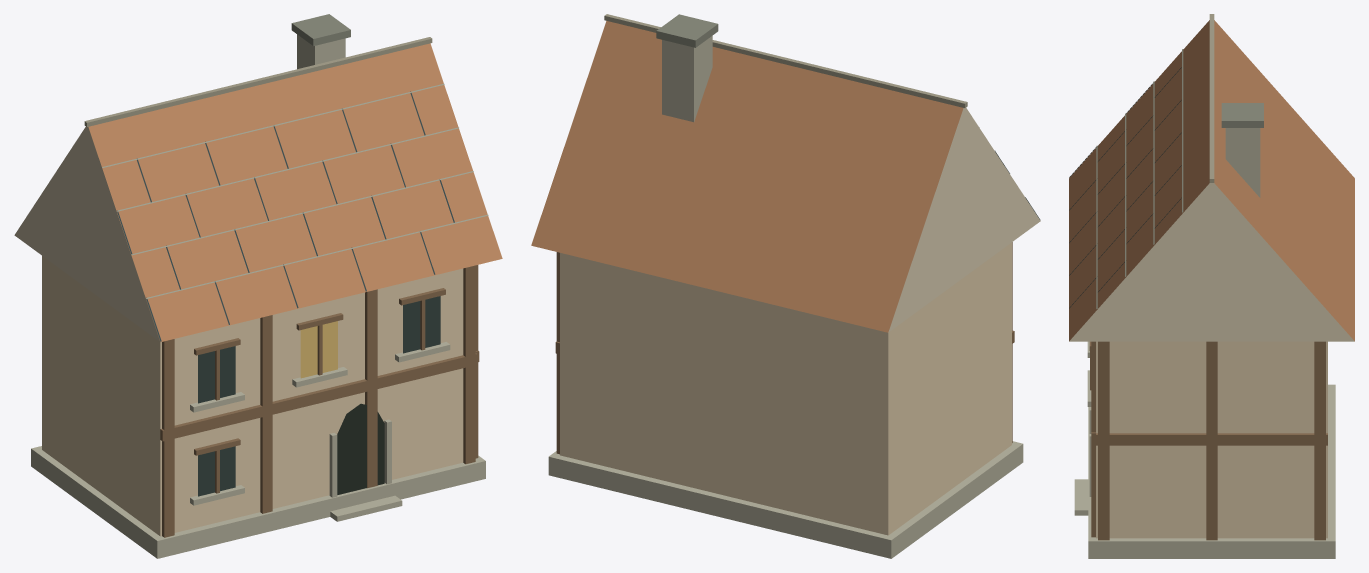
File: capital-house-copper.glb
3 views of the same model, side by side, from view 1: azimuth 30°, elevation 25°; view 2: azimuth 150°, elevation 25°; view 3: azimuth 270°, elevation 25° (orthographic). The views are drawn at different scales.
Visible parts, largest first — view 1: Building; view 2: Building; view 3: Building.
Part boxes in pixels (left/top/right/bottom): Building: left=14, top=14, right=502, bottom=558; Building: left=531, top=14, right=1040, bottom=558; Building: left=1069, top=14, right=1354, bottom=558.
Size of the model in its own units: 101 by 116 by 74.
